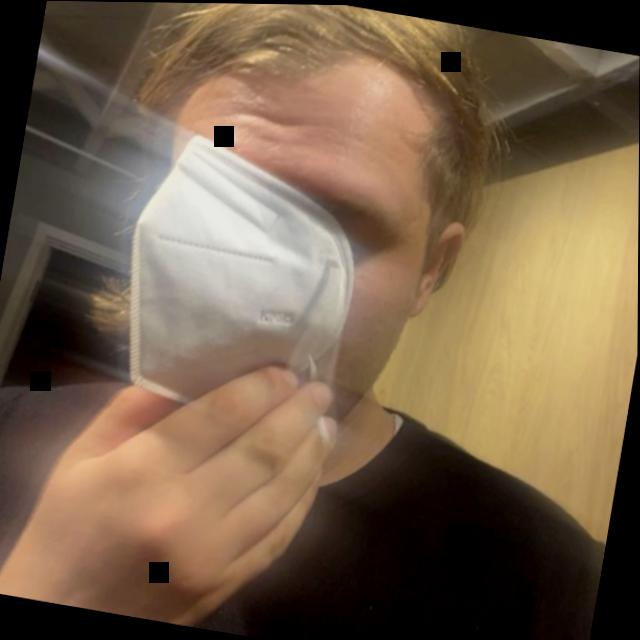Mask: (56, 1, 510, 478)
